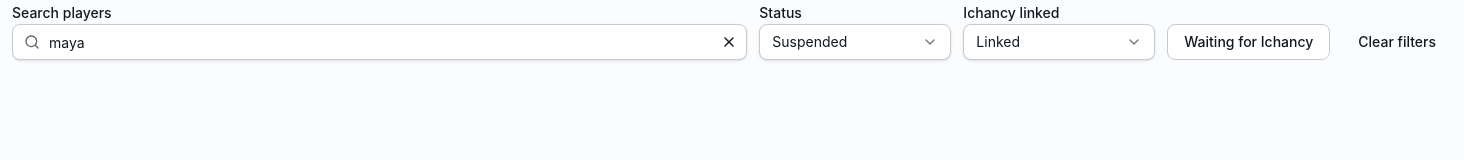
Scenario: PlayerFilters › clears every filter at once and drops them from the query string
Click the button "Clear filters". click: (1397, 42)
box: [1342,24,1452,60]
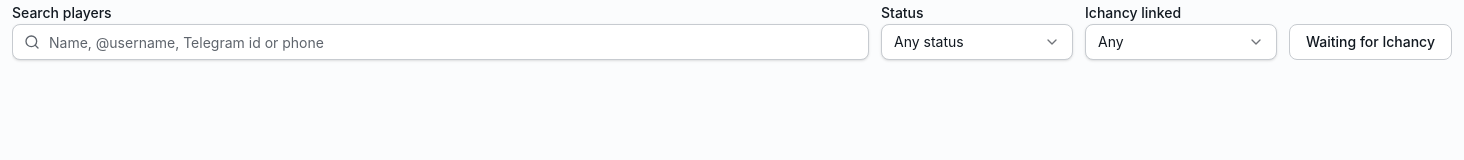
Expected: the field labelled "Search players" is empty, [12,24,869,60]
